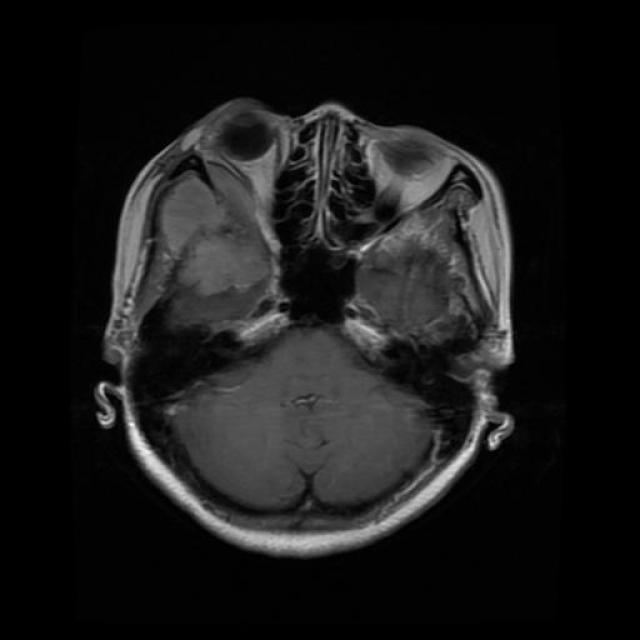meningioma: (162, 179, 270, 296)
